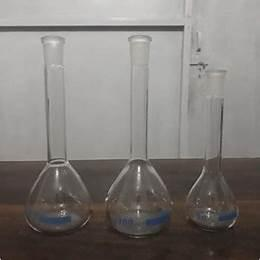Volumetric flask: (19, 27, 94, 239), (104, 27, 173, 237), (185, 53, 241, 235)
